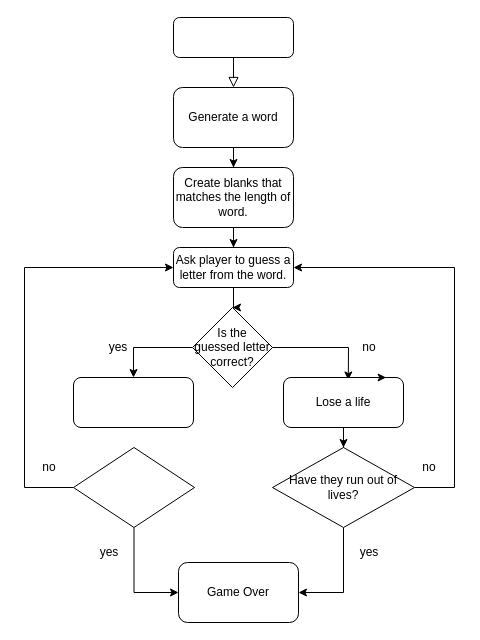
Image size: 480x640. Some labels were removed from this diagram. Each missing label, with the centre of its shape:
All letters guessed correctly?: the point at 133,487
Show the correct letter in the corresponding blanks: the point at 133,402
Start: the point at 233,37
